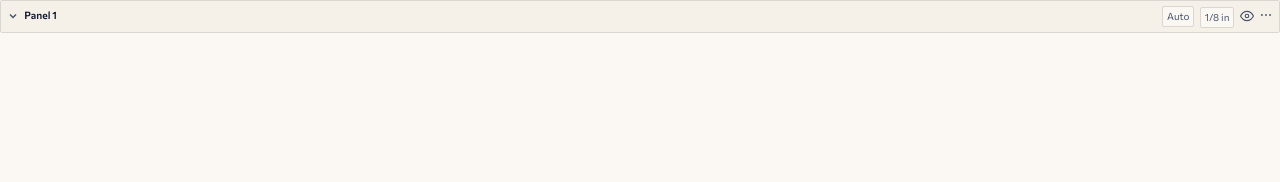
Test: PanelHeader — thickness chip + in/mm dropdown › inch mode lists the common acrylic increments; picking commits the nominal mm and collapses
Click the button with aria-label "Panel thickness": click(1217, 18) [1200,7,1234,28]
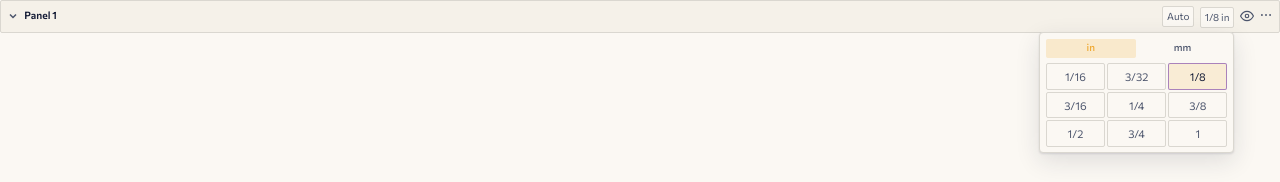
Expected: the button named "1/4 inch" is shown
Click the button named "1/4 inch": click(1137, 105) [1107,92,1166,118]
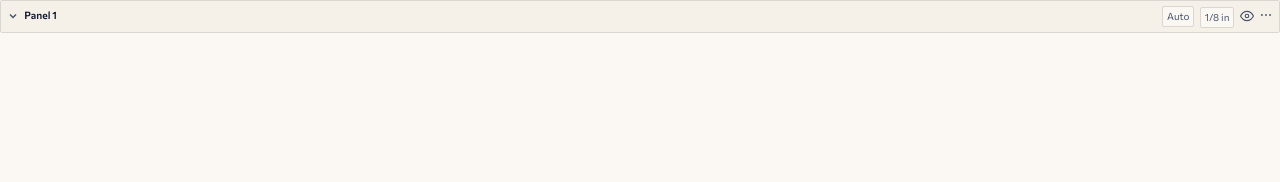
Expected: the element with test id "panel-thickness-popover" is gone
